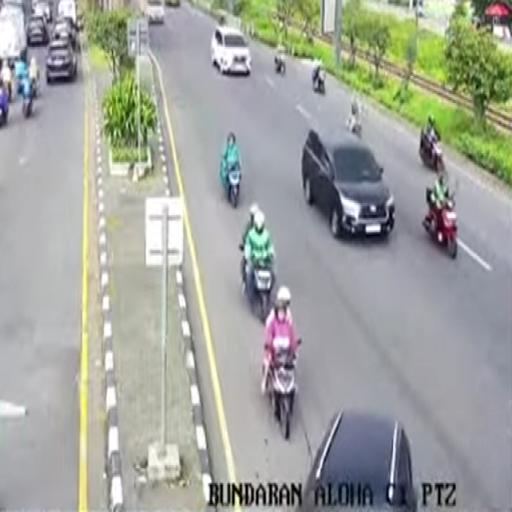Helmet: (276, 285, 291, 308), (254, 210, 266, 236), (275, 299, 287, 324), (249, 201, 260, 228), (226, 132, 238, 152)
Motor: (268, 347, 296, 438), (423, 188, 458, 256), (252, 264, 272, 321), (419, 129, 444, 171), (227, 164, 240, 206)
